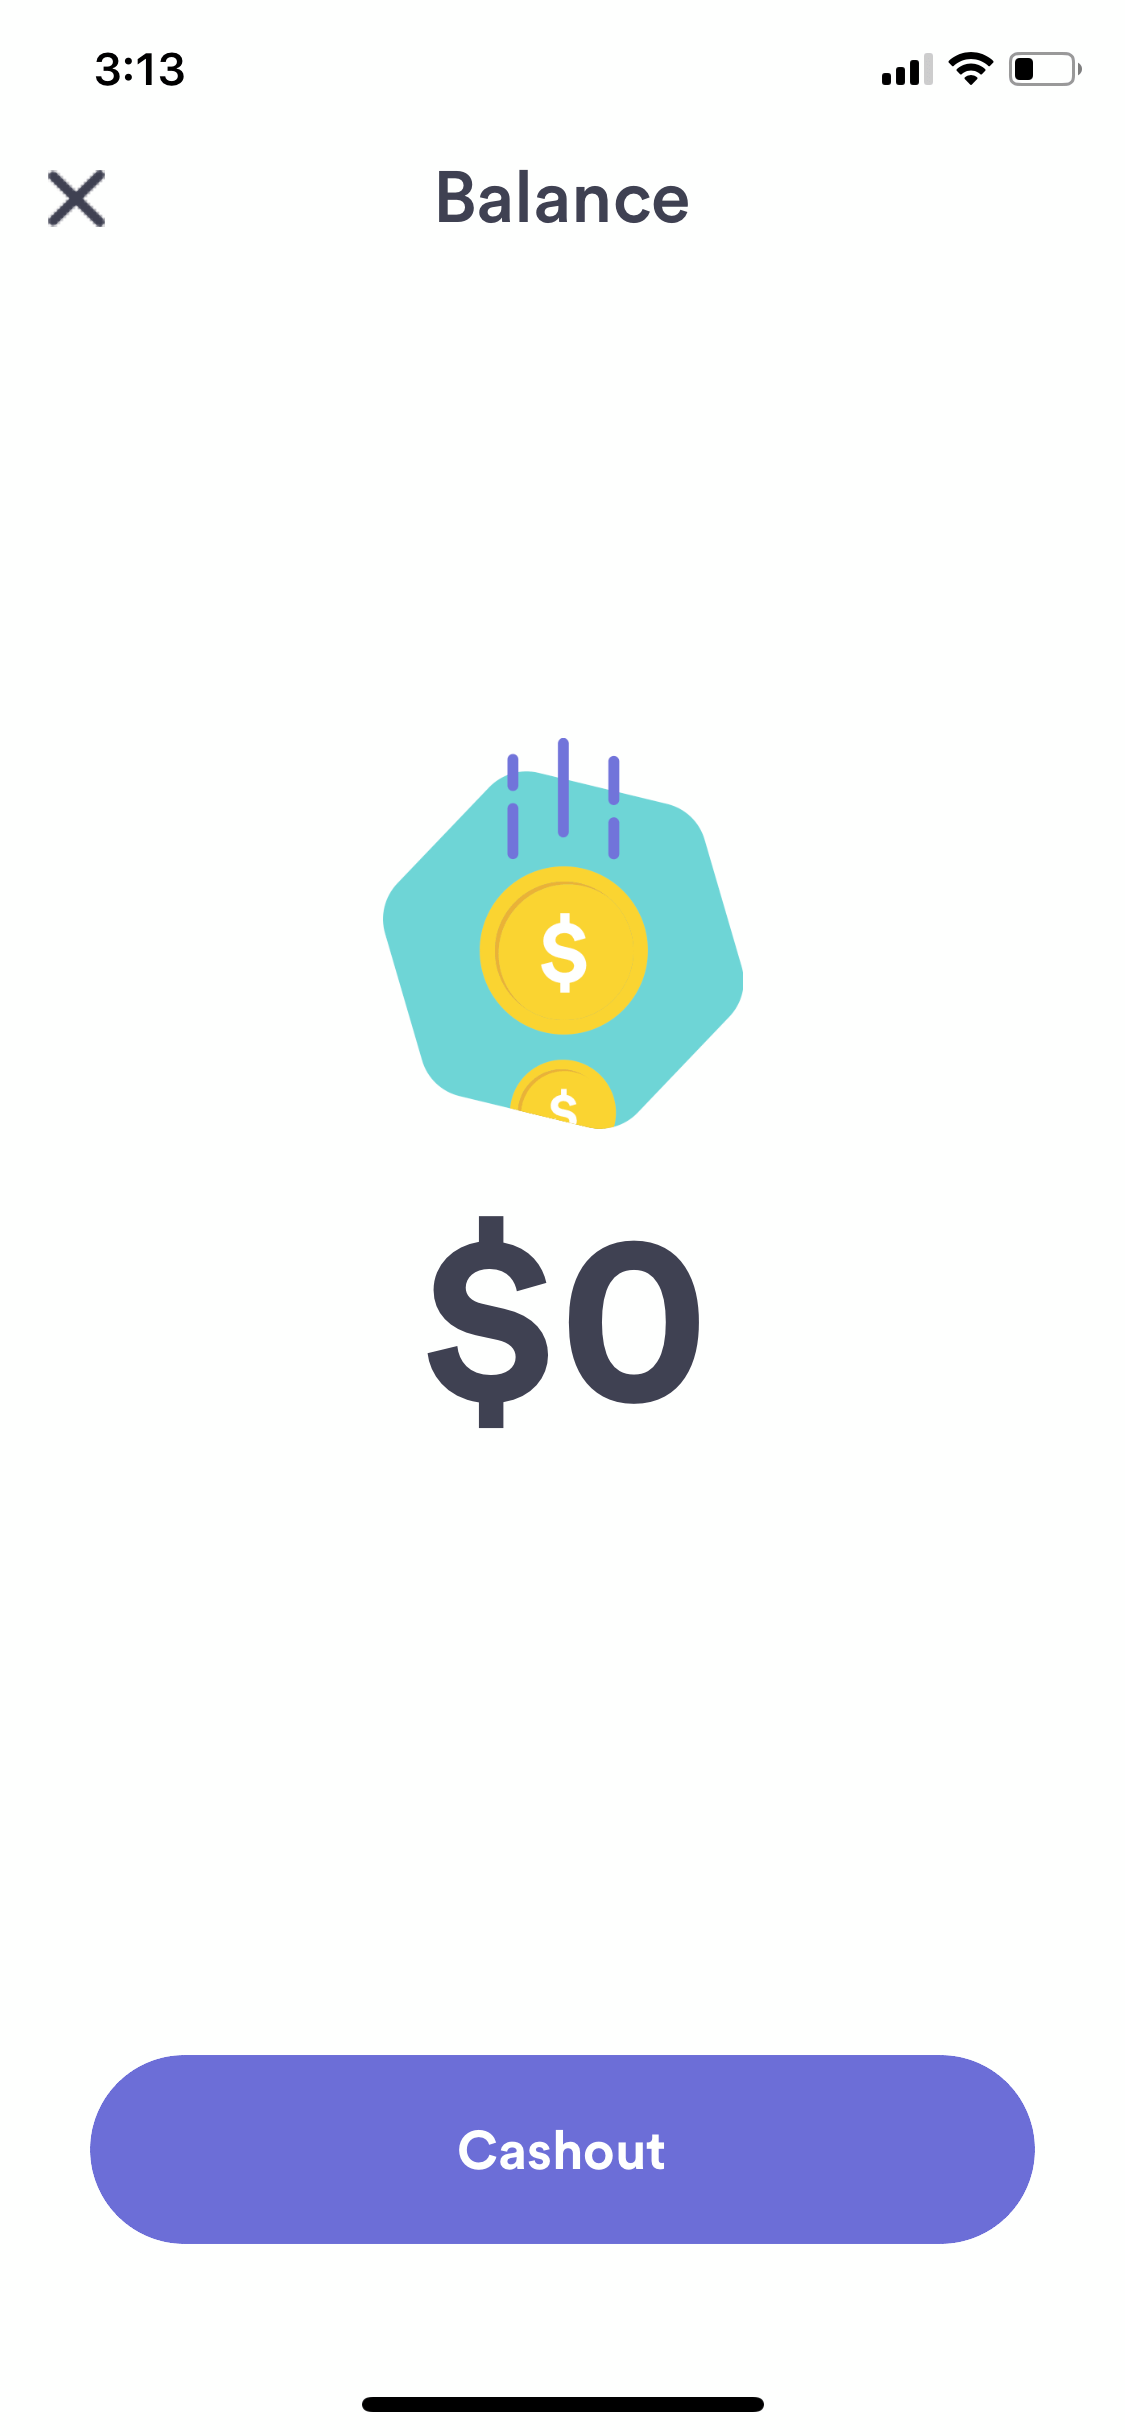Buttons: (82, 2048, 1043, 2260), (2, 127, 152, 266)
